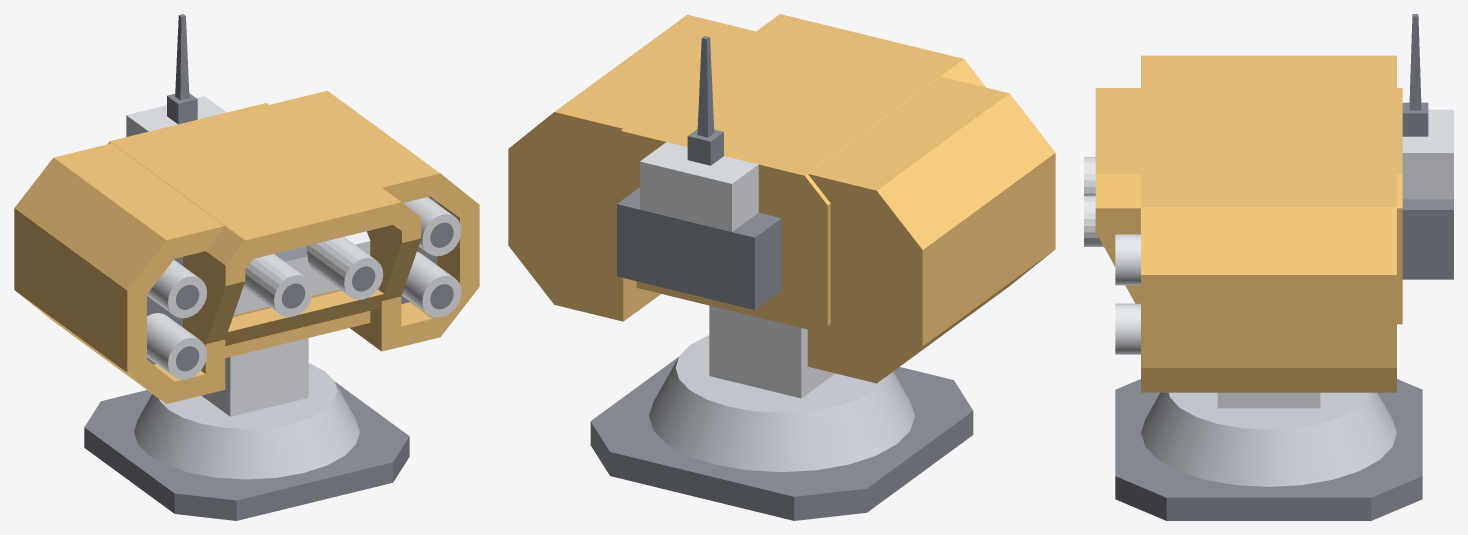
Rendered from turret_triple.fbx.
3 views of the same model, side by side, from view 1: azimuth 30°, elevation 25°; view 2: azimuth 150°, elevation 25°; view 3: azimuth 270°, elevation 25° (orthographic). The views are drawn at different scales.
Parts seen in each view (by area): view 1: turret_double, turret, Group, Group.001; view 2: turret_double, turret; view 3: turret_double, turret, Group, Group.001.
Part boxes in pixels (box(x1,y1,x2,y2)): turret_double: box(14, 90, 479, 520); turret: box(107, 14, 421, 345); Group: box(306, 237, 383, 299); Group.001: box(243, 254, 312, 316); turret_double: box(508, 14, 1055, 520); turret: box(597, 14, 985, 325); turret_double: box(1115, 55, 1422, 520); turret: box(1095, 14, 1453, 324); Group: box(1084, 196, 1103, 246); Group.001: box(1084, 157, 1095, 195).
Size of the model in its own units: 90 by 95.05 by 72.24.
